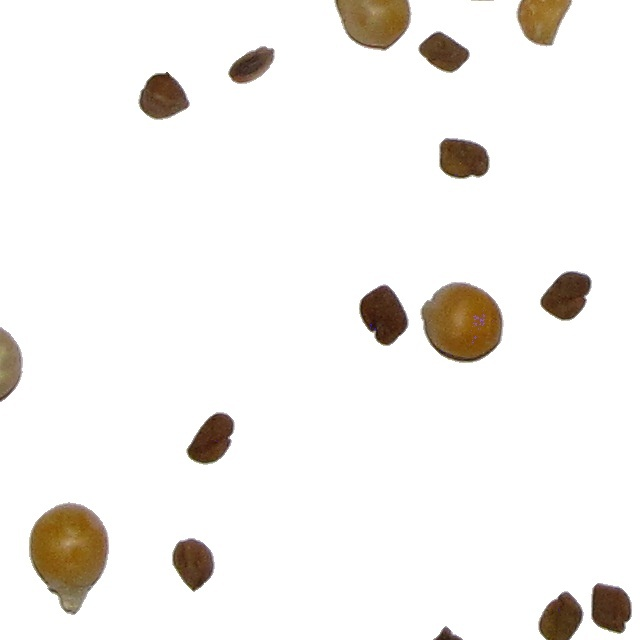buckwheat: (358, 283, 410, 347), (539, 270, 593, 322), (185, 411, 236, 466), (137, 71, 191, 121), (171, 537, 216, 593), (537, 590, 585, 640), (417, 30, 471, 74), (590, 582, 633, 635), (441, 137, 494, 180), (227, 45, 276, 85), (422, 625, 465, 640)
mais: (28, 501, 110, 616), (419, 281, 505, 364)
